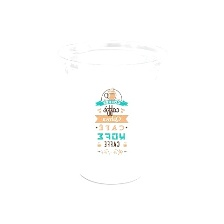glass: (50, 35, 175, 192)
